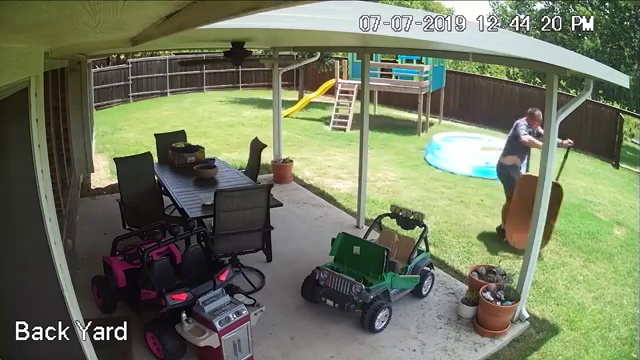face: (529, 111, 542, 127)
